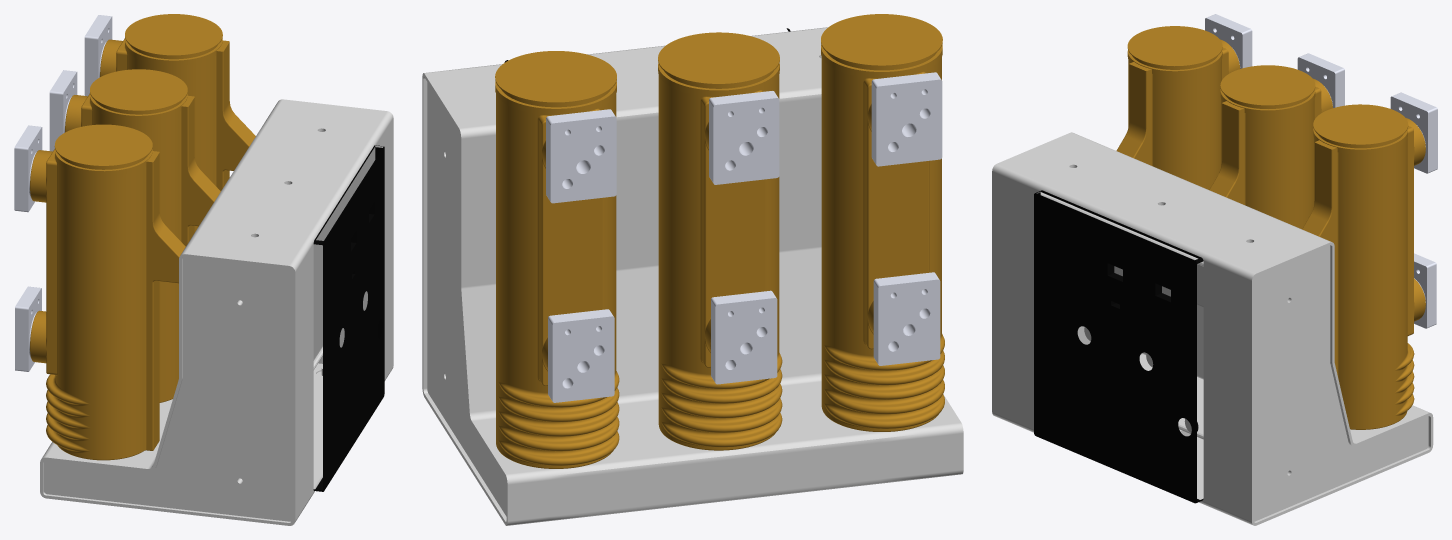
The model's file is 09_avtomaticheskiy-vakuumnyy-vyklyuchatel-vs1-12.glb.
The picture shows the model from 3 angles, left to right: view 1: azimuth 30°, elevation 25°; view 2: azimuth 150°, elevation 25°; view 3: azimuth 270°, elevation 25°; orthographic projection. The views are drawn at different scales.
Parts seen in each view (by area): view 1: 09_avtomaticheskiy-vakuumnyy-vyklyuchatel-vs1-12; view 2: 09_avtomaticheskiy-vakuumnyy-vyklyuchatel-vs1-12; view 3: 09_avtomaticheskiy-vakuumnyy-vyklyuchatel-vs1-12.
Boxes of the visible parts, x1,y1,x2,y2 form: 09_avtomaticheskiy-vakuumnyy-vyklyuchatel-vs1-12: [14, 14, 393, 525]; 09_avtomaticheskiy-vakuumnyy-vyklyuchatel-vs1-12: [422, 14, 963, 525]; 09_avtomaticheskiy-vakuumnyy-vyklyuchatel-vs1-12: [992, 14, 1437, 525].
Size of the model in its own units: 713 by 577 by 713.
